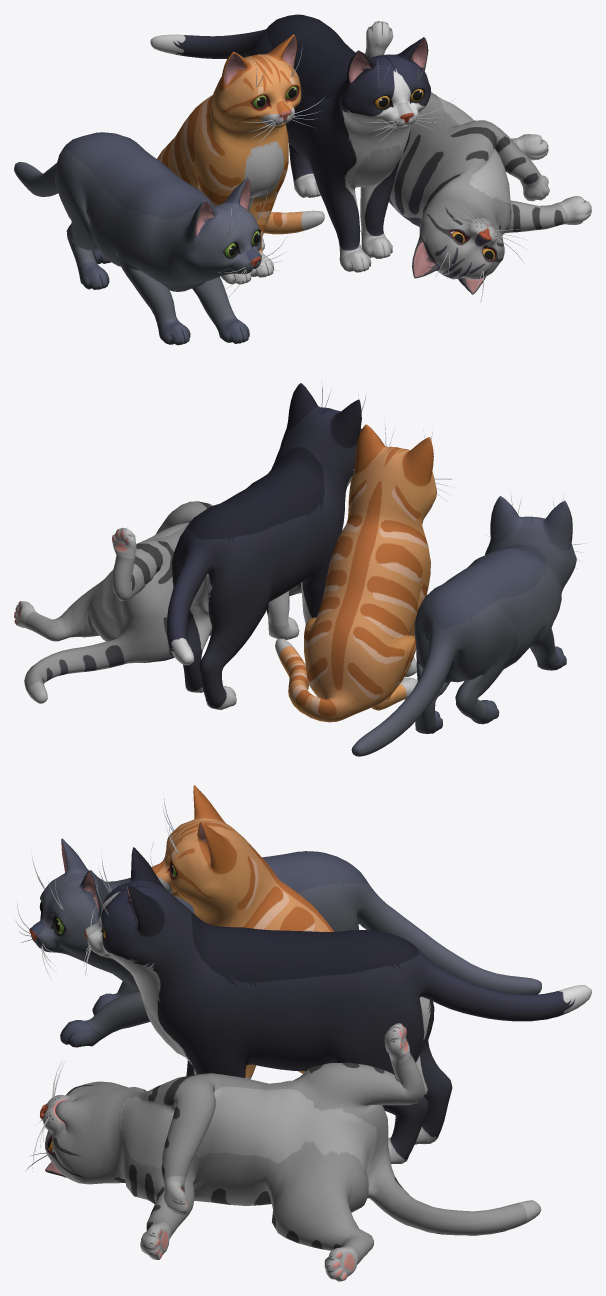
The model's file is Catzzzz.fbx.
3 renders of one model, top to bottom at view 1: azimuth 30°, elevation 25°; view 2: azimuth 150°, elevation 25°; view 3: azimuth 270°, elevation 25°, orthographic. The views are drawn at different scales.
Visible parts, largest first — view 1: CartoonCat.006, CartoonCat.003, CartoonCat.005, CartoonCat.004; view 2: CartoonCat.003, CartoonCat.004, CartoonCat.006, CartoonCat.005; view 3: CartoonCat.005, CartoonCat.003, CartoonCat.006, CartoonCat.004.
Boxes of the visible parts, box(x1,y1,x2,y2) form: CartoonCat.006: box(14, 132, 286, 345); CartoonCat.003: box(150, 14, 452, 272); CartoonCat.005: box(365, 21, 591, 302); CartoonCat.004: box(157, 34, 327, 284); CartoonCat.003: box(167, 380, 386, 709); CartoonCat.004: box(275, 417, 451, 722); CartoonCat.006: box(351, 490, 587, 756); CartoonCat.005: box(14, 501, 301, 703); CartoonCat.005: box(23, 1023, 541, 1281); CartoonCat.003: box(84, 847, 591, 1163); CartoonCat.006: box(15, 838, 541, 1047); CartoonCat.004: box(148, 785, 333, 1082).
Bounding box in the file's own units: 96.15 × 45.7 × 81.89.
4 materials, 4 textured.
